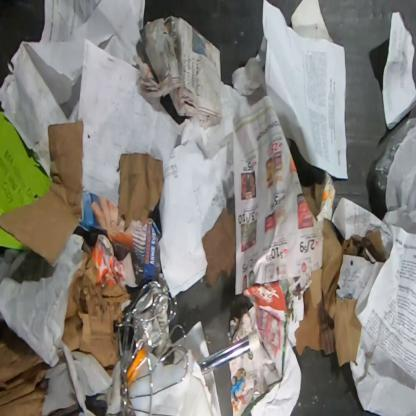cardboard: (294, 216, 388, 367), (0, 121, 85, 265), (61, 252, 132, 379), (0, 318, 52, 415)
metal: (115, 280, 190, 415), (198, 331, 262, 375)
soft_plastic: (375, 116, 415, 204)
